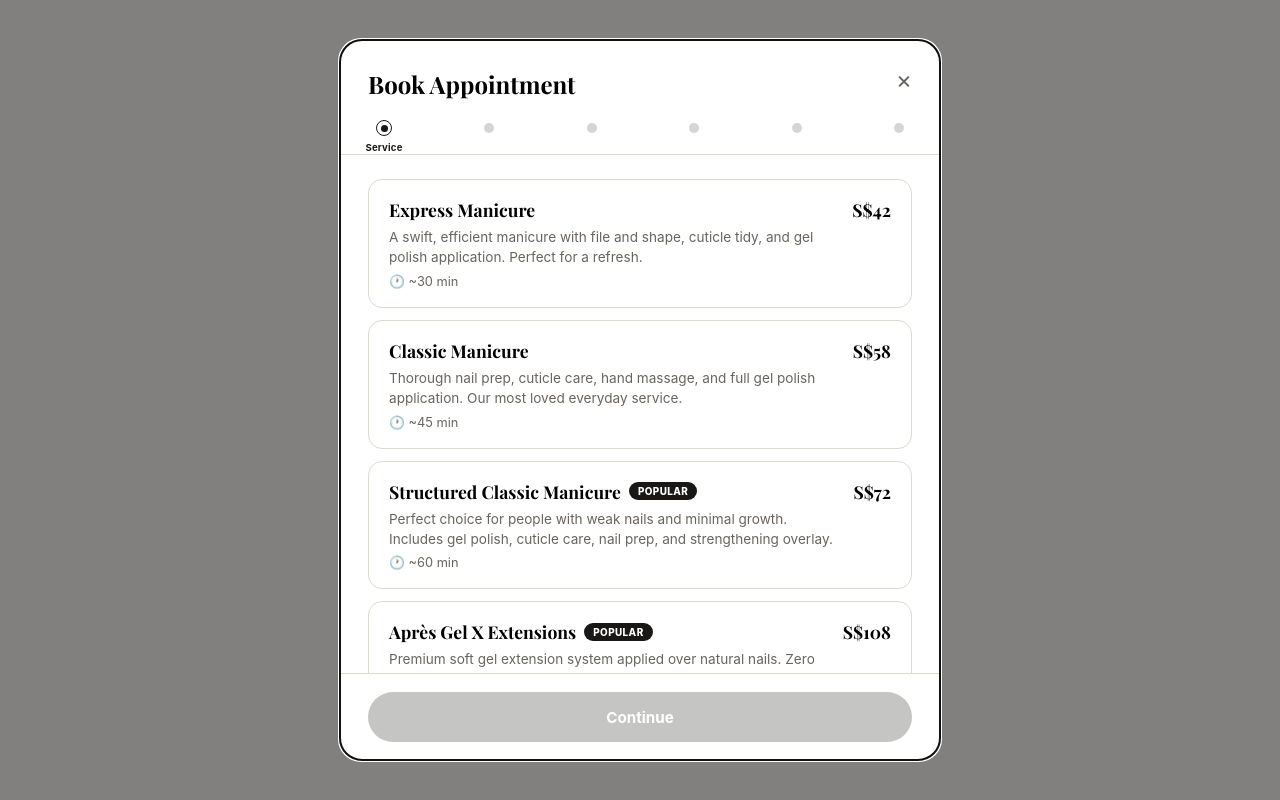
Test: BookingModal — availability mapping › only available slots are offered, sorted, and unavailable days are disabled
Click the button "Classic Manicure" at (640, 384), box [368, 320, 912, 449]
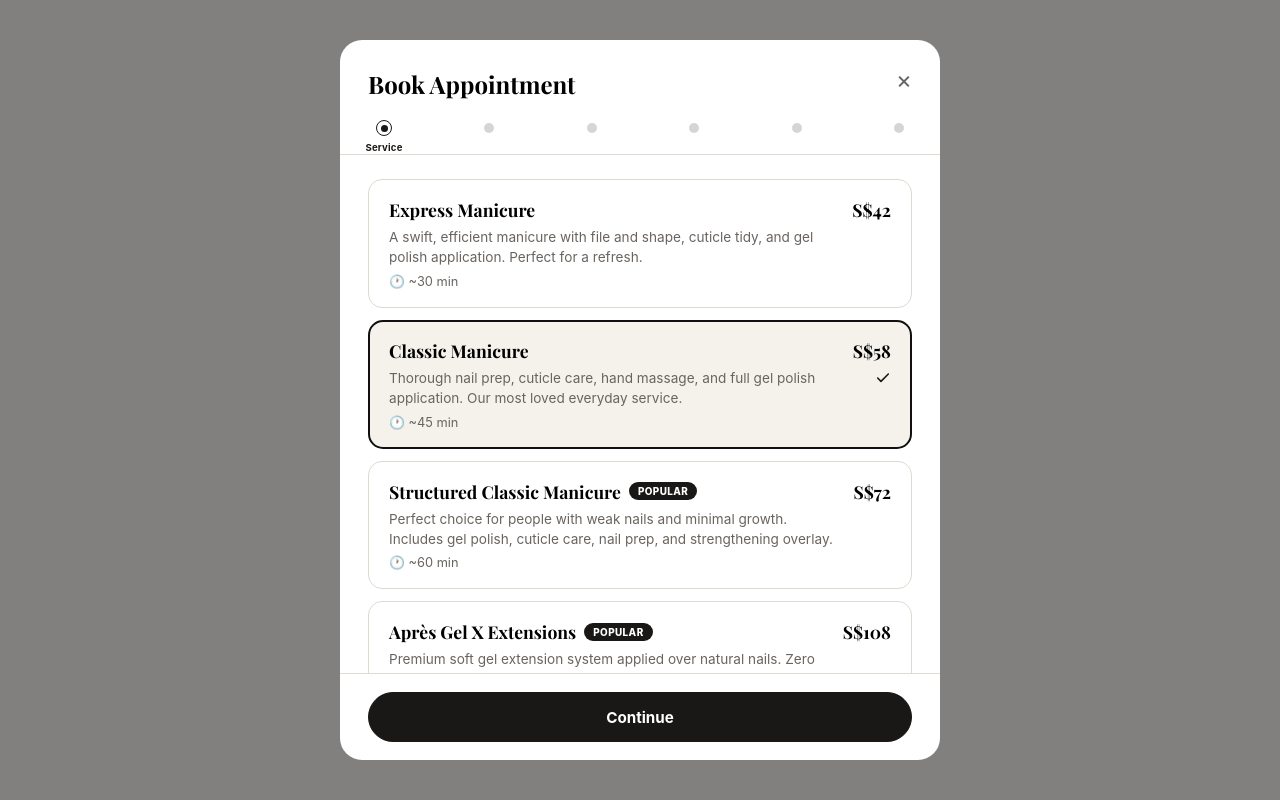
Click the button "Continue" at (640, 717), box [368, 692, 912, 742]
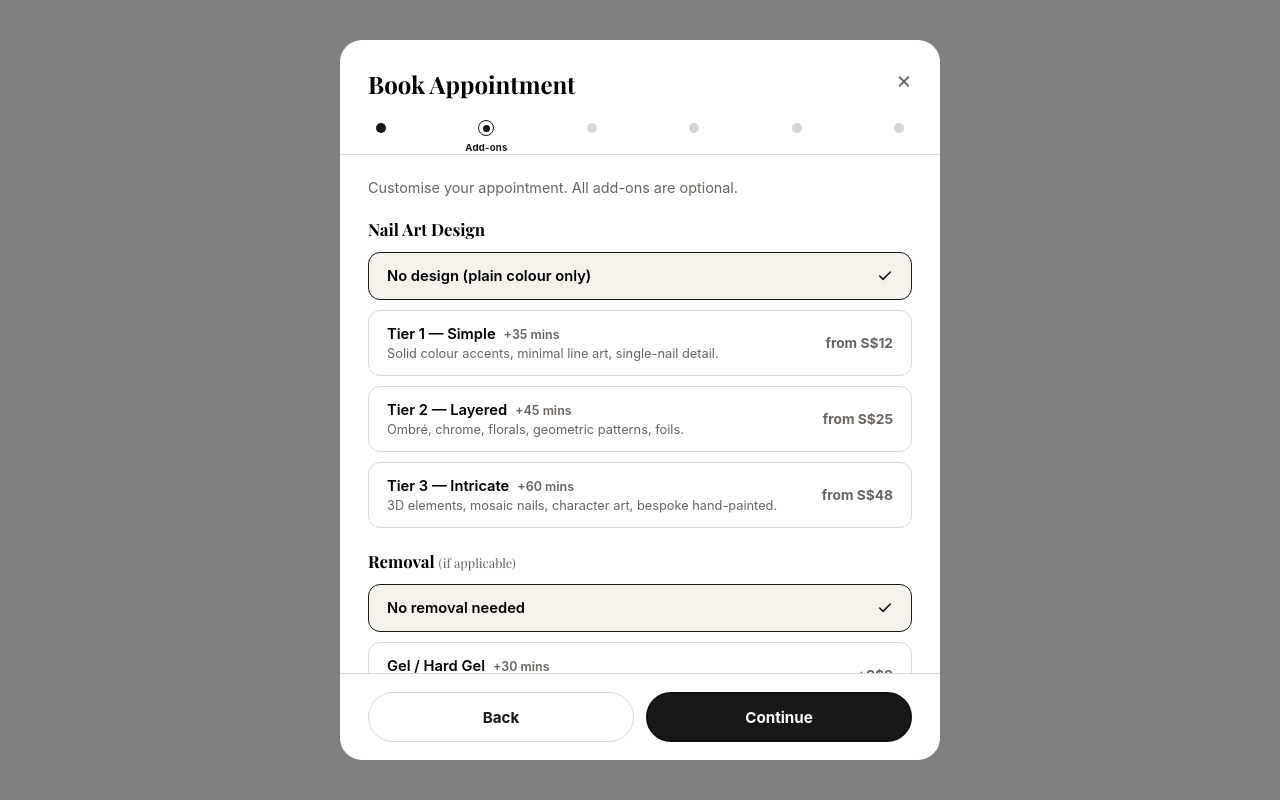
Click the button "Continue" at (779, 717), box [646, 692, 912, 742]
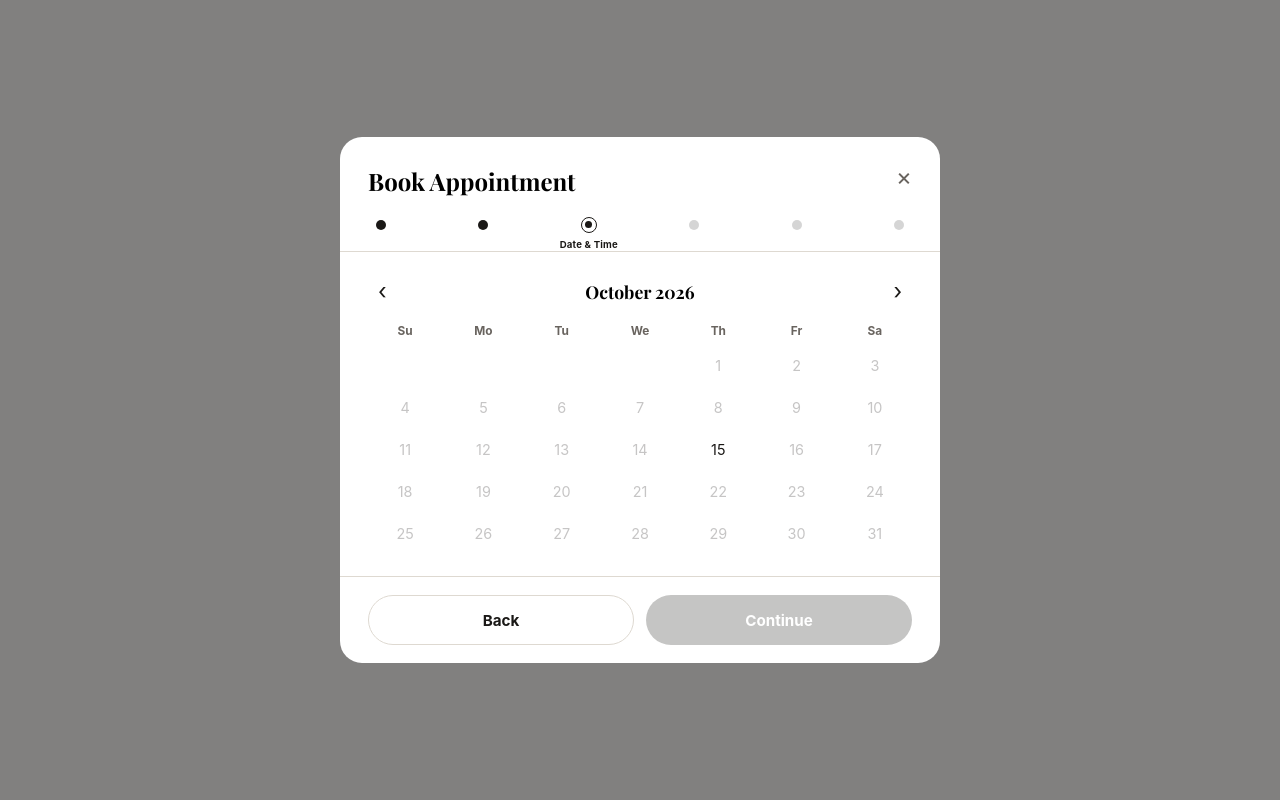
Check: the button "15" is enabled
Check: the button "20" is disabled, box [543, 472, 581, 510]
Click the button "15" at (718, 449), box [699, 430, 737, 468]
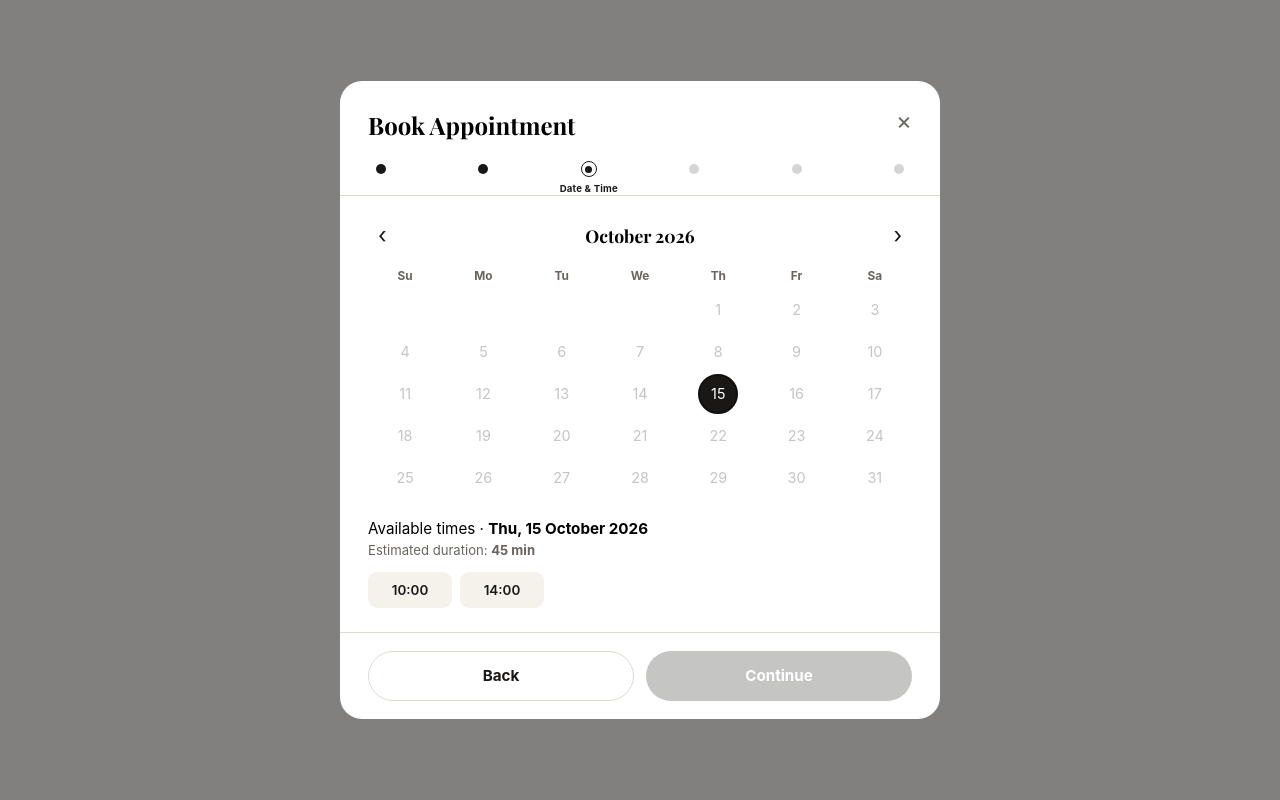
Check: the button "Continue" is disabled, box [646, 651, 912, 701]
Check: the button "10:00" is shown
Check: the button "14:00" is shown, box [460, 572, 544, 608]
Click the button "10:00" at (410, 590), box [368, 572, 452, 608]
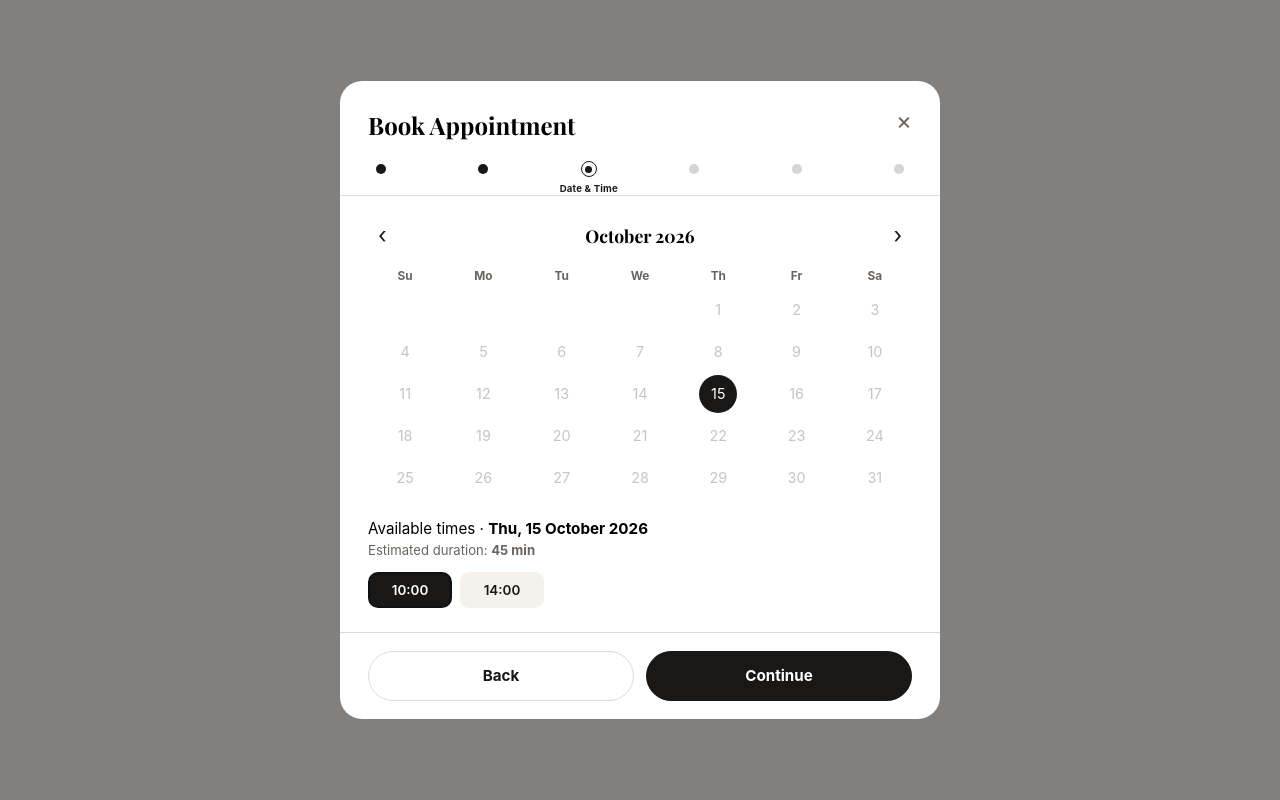
Check: the button "Continue" is enabled, box [646, 651, 912, 701]
